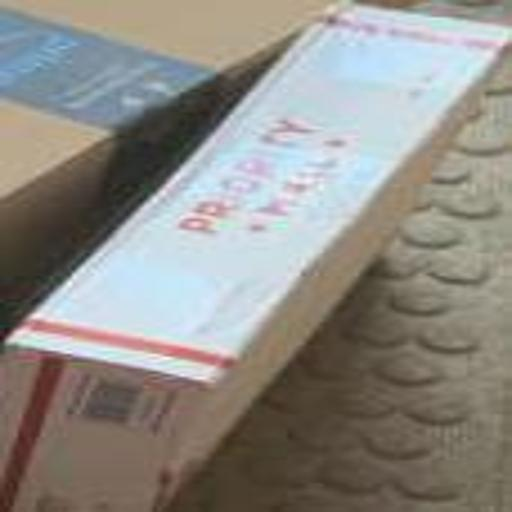Amazon: (0, 0, 316, 205)
Other: (0, 20, 512, 511)
